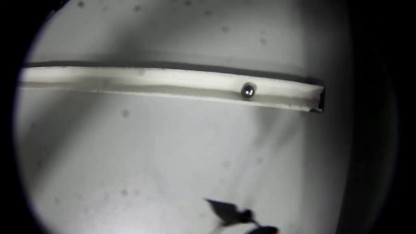gangzhu: (239, 83, 256, 100)
